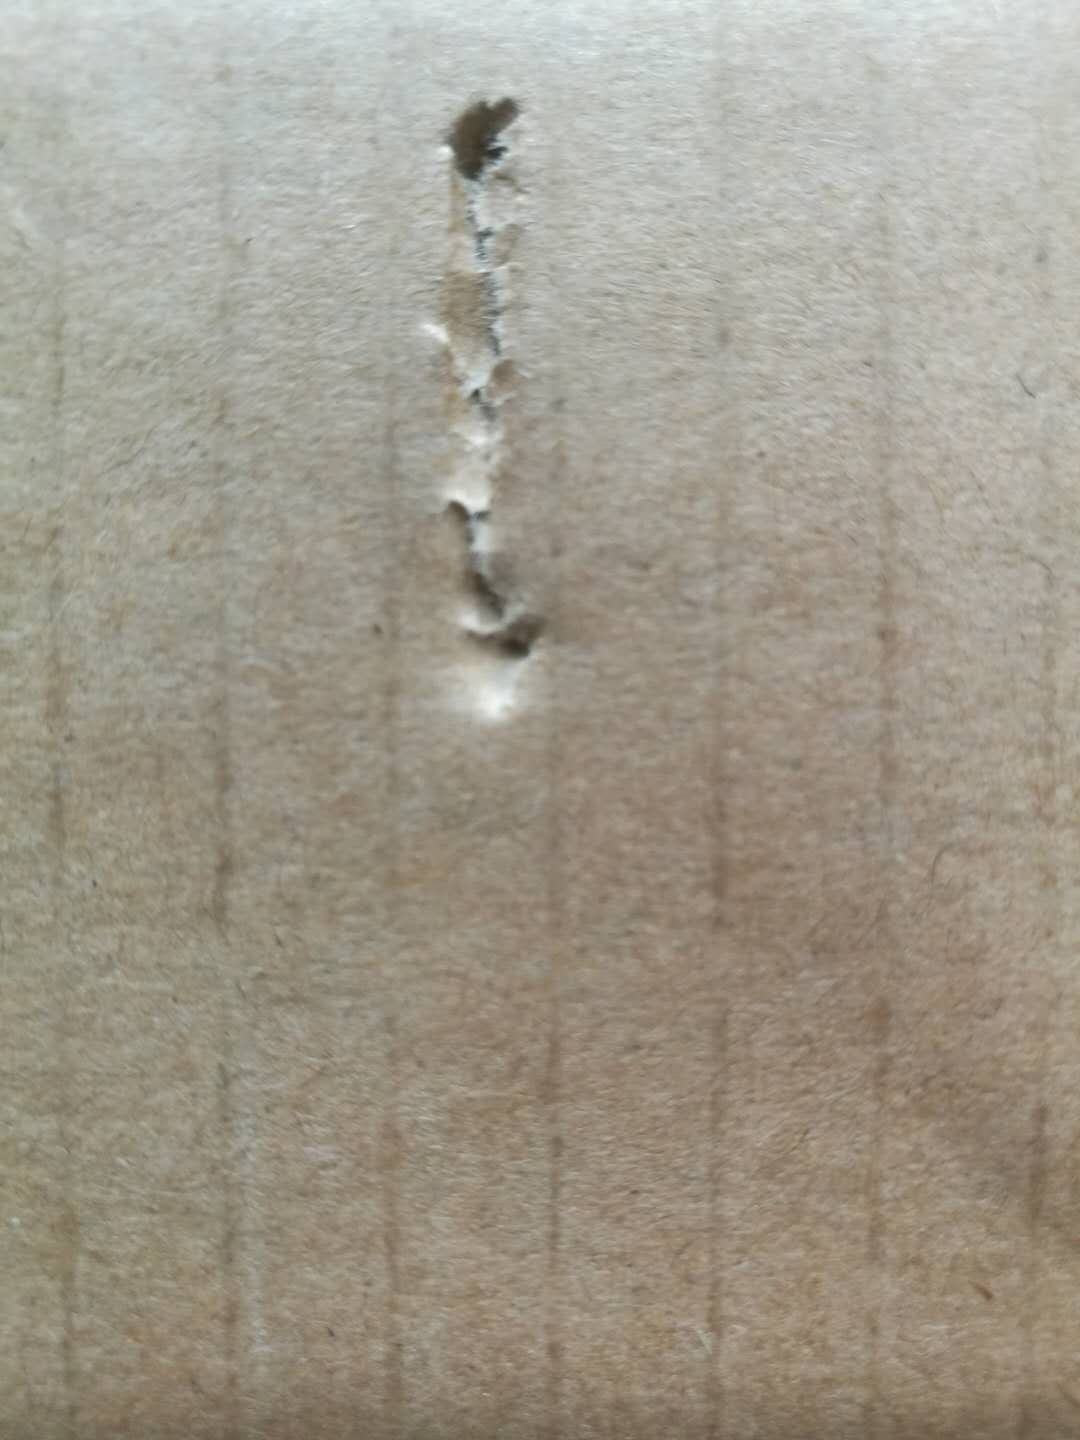defect: (382, 52, 623, 766)
